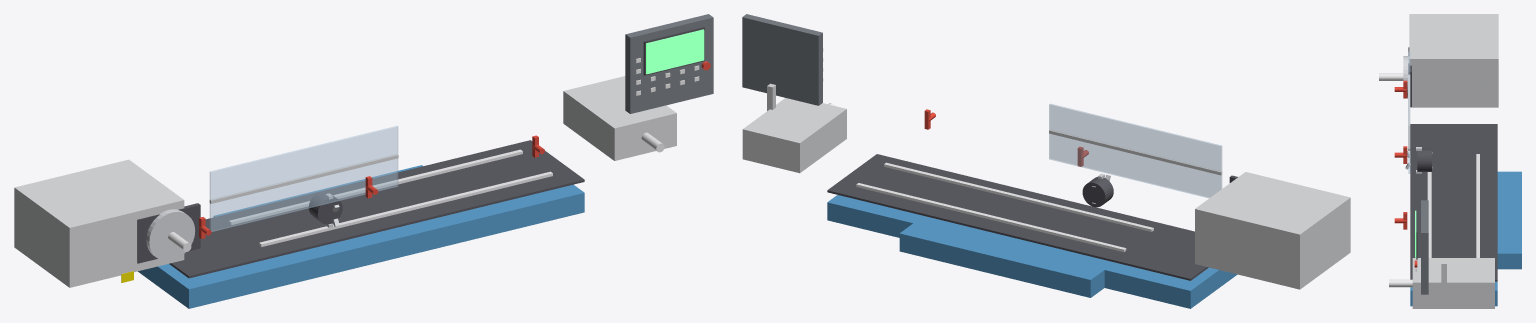
The model's file is mesin_cnc.glb.
3 views of the same model, side by side, from view 1: azimuth 30°, elevation 25°; view 2: azimuth 150°, elevation 25°; view 3: azimuth 270°, elevation 25° (orthographic). The views are drawn at different scales.
Visible parts, largest first — view 1: BedTop.001, Headstock.001, MainBed.001, Guard, Tailstock.001, ControlPanel.001, CNCScreen, Chuck.001, Rail_-0.25, Rail_0.25, HeadstockCavity, GuardFrame (+1 smaller); view 2: BedTop.001, Headstock.001, Guard, MainBed.001, CoolantTank, ControlPanel.001, Tailstock.001, Rail_0.25, Rail_-0.25, GuardFrame, Turret; view 3: BedTop.001, Headstock.001, Tailstock.001, CoolantTank, ControlPanel.001, Rail_0.25, Rail_-0.25, Turret, Guard, GuardFrame, Quill, PanelStand (+4 smaller).
Boxes of the visible parts, <box> form: BedTop.001: <box>169,140,584,278</box>; Headstock.001: <box>14,159,184,287</box>; MainBed.001: <box>138,184,584,308</box>; Guard: <box>209,126,398,231</box>; Tailstock.001: <box>563,76,676,160</box>; ControlPanel.001: <box>625,14,713,113</box>; CNCScreen: <box>646,29,704,74</box>; Chuck.001: <box>146,209,195,260</box>; Rail_-0.25: <box>259,171,552,246</box>; Rail_0.25: <box>229,149,522,224</box>; HeadstockCavity: <box>137,203,200,263</box>; GuardFrame: <box>209,154,398,203</box>; BedTop.001: <box>827,154,1208,280</box>; Headstock.001: <box>1195,172,1350,289</box>; Guard: <box>1049,103,1222,198</box>; MainBed.001: <box>827,195,1237,308</box>; CoolantTank: <box>899,221,1106,297</box>; ControlPanel.001: <box>742,14,822,105</box>; Tailstock.001: <box>742,98,846,173</box>; Rail_0.25: <box>856,183,1126,251</box>; Rail_-0.25: <box>884,162,1153,231</box>; GuardFrame: <box>1049,129,1222,175</box>; Turret: <box>1082,177,1113,207</box>; BedTop.001: <box>1410,124,1497,281</box>; Headstock.001: <box>1409,14,1498,107</box>; Tailstock.001: <box>1412,258,1494,308</box>; CoolantTank: <box>1497,171,1521,269</box>; ControlPanel.001: <box>1421,200,1428,294</box>; Rail_0.25: <box>1476,154,1479,257</box>; Rail_-0.25: <box>1427,172,1431,257</box>; Turret: <box>1417,148,1431,171</box>; Guard: <box>1408,51,1410,173</box>; GuardFrame: <box>1408,74,1410,150</box>; Quill: <box>1389,279,1412,287</box>; PanelStand: <box>1441,261,1446,294</box>.
Size of the model in its own units: 6.25 by 1.44 by 1.47.
